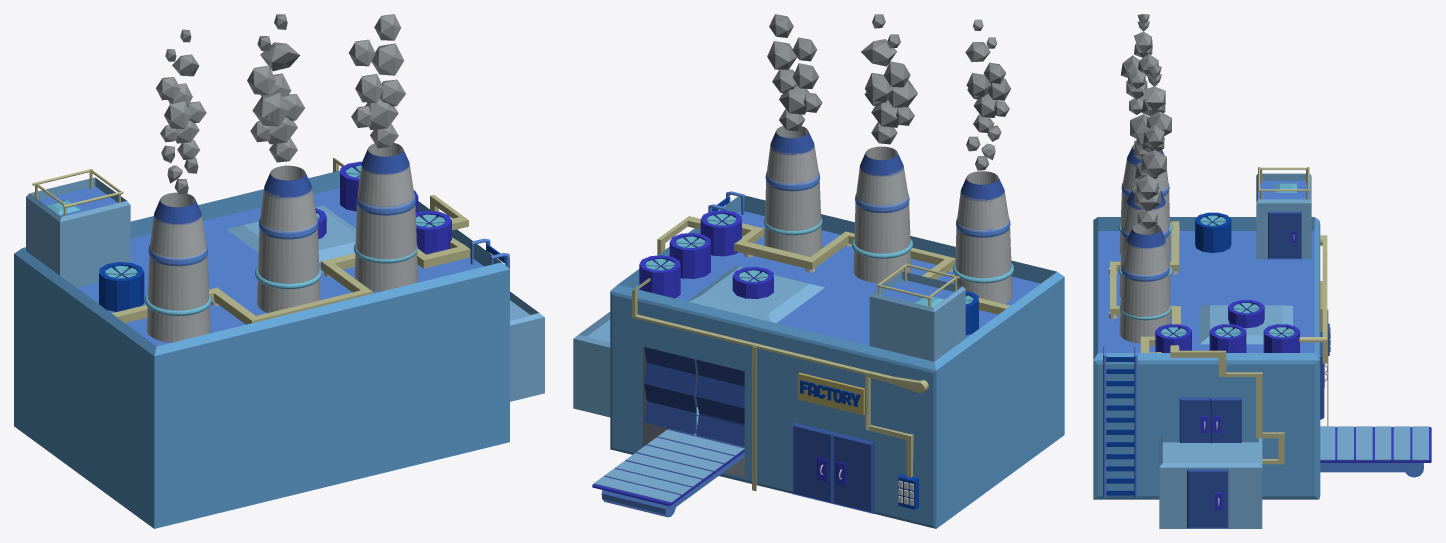
Rendered from CUPIC_FACTORy.gltf.
3 renders of one model, left to right at view 1: azimuth 30°, elevation 25°; view 2: azimuth 150°, elevation 25°; view 3: azimuth 270°, elevation 25°, orthographic. The views are drawn at different scales.
Parts seen in each view (by area): view 1: node-0; view 2: node-0; view 3: node-0.
Part boxes in pixels (bbox=[...]): node-0: bbox=[14, 14, 544, 528]; node-0: bbox=[573, 14, 1064, 528]; node-0: bbox=[1093, 14, 1431, 528].
Bounding box in the file's own units: 792 × 796 × 656.
1 material, 1 textured.
